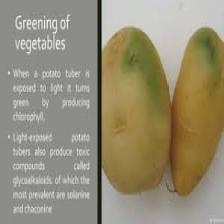Defected potato: (102, 28, 171, 193), (171, 22, 224, 198)
